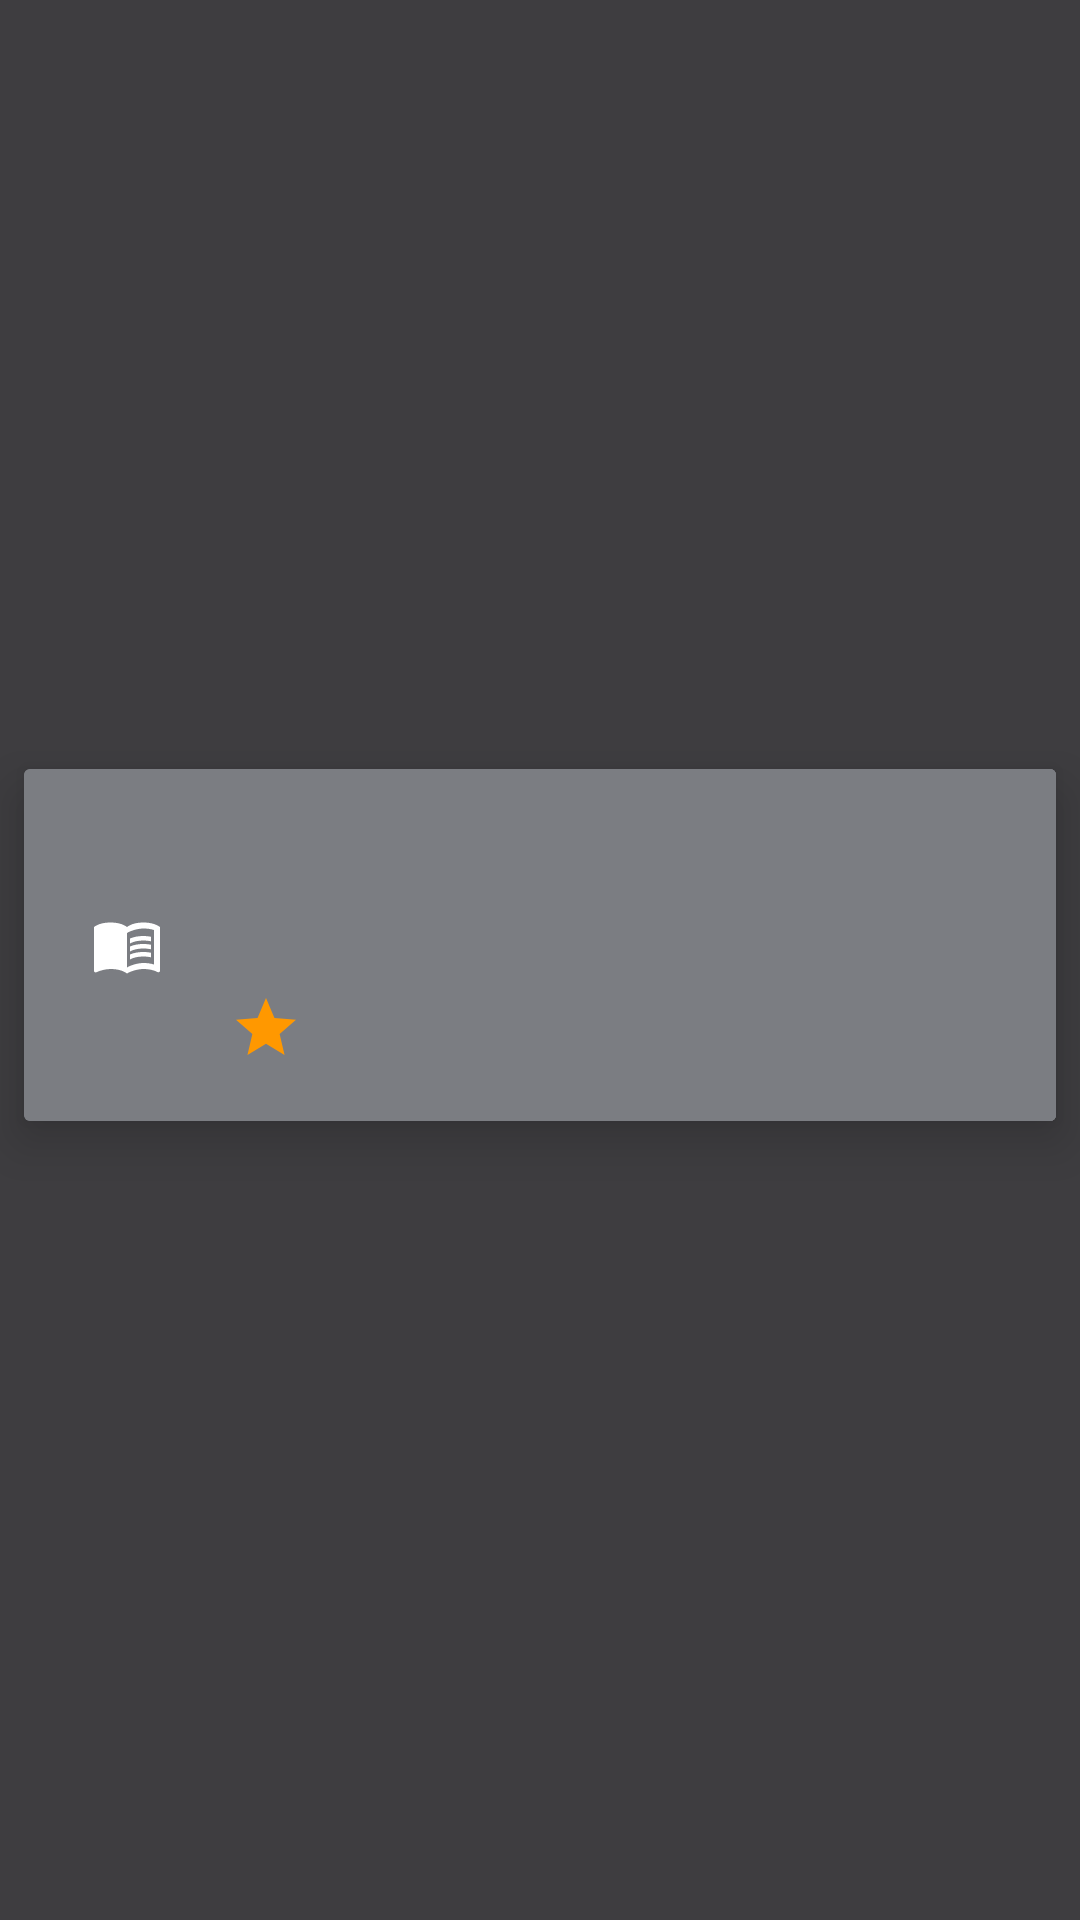

Screen size 1080w x 1920h. Icon name, then its box in pixels as (x1, y1, x2, y2):
book: (94, 922, 160, 974)
star: (236, 998, 296, 1055)
